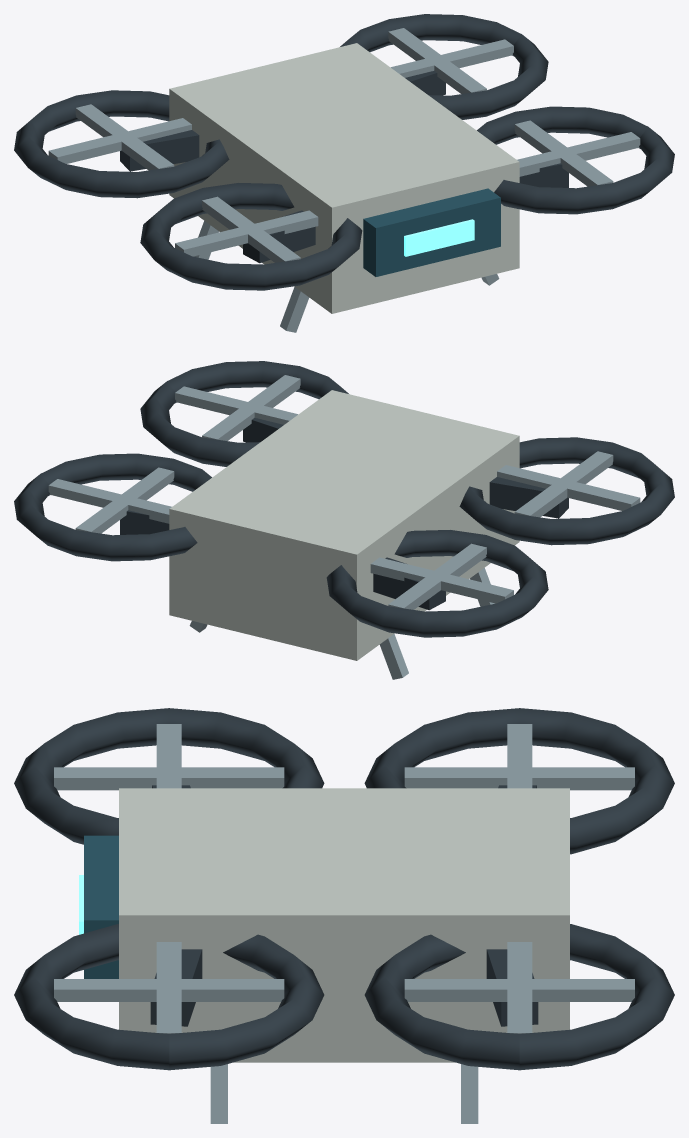
Rendered from service-drone.lod2.glb.
The picture shows the model from 3 angles, top to bottom: view 1: azimuth 30°, elevation 25°; view 2: azimuth 150°, elevation 25°; view 3: azimuth 270°, elevation 25°; orthographic projection. The views are drawn at different scales.
Parts seen in each view (by area): view 1: structure, rotor_lf, rotor_lb, rotor_rf, rotor_rb; view 2: structure, rotor_lb, rotor_lf, rotor_rb, rotor_rf; view 3: structure, rotor_rb, rotor_rf, rotor_lb, rotor_lf.
Boxes of the visible parts, left/top/right/bottom form: structure: left=14, top=14, right=674, bottom=332; rotor_lf: left=175, top=196, right=318, bottom=262; rotor_lb: left=48, top=104, right=191, bottom=170; rotor_rf: left=514, top=120, right=640, bottom=186; rotor_rb: left=388, top=28, right=513, bottom=93; structure: left=14, top=361, right=674, bottom=679; rotor_lb: left=370, top=543, right=513, bottom=609; rotor_lf: left=497, top=451, right=640, bottom=517; rotor_rb: left=48, top=467, right=174, bottom=533; rotor_rf: left=175, top=375, right=300, bottom=440; structure: left=14, top=708, right=674, bottom=1123; rotor_rb: left=404, top=942, right=634, bottom=1033; rotor_rf: left=54, top=942, right=284, bottom=1033; rotor_lb: left=404, top=724, right=634, bottom=790; rotor_lf: left=54, top=724, right=284, bottom=790.
Size of the model in its own units: 3.24 by 0.9088 by 2.64.
